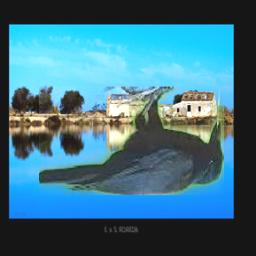Crow: (38, 87, 223, 195)
